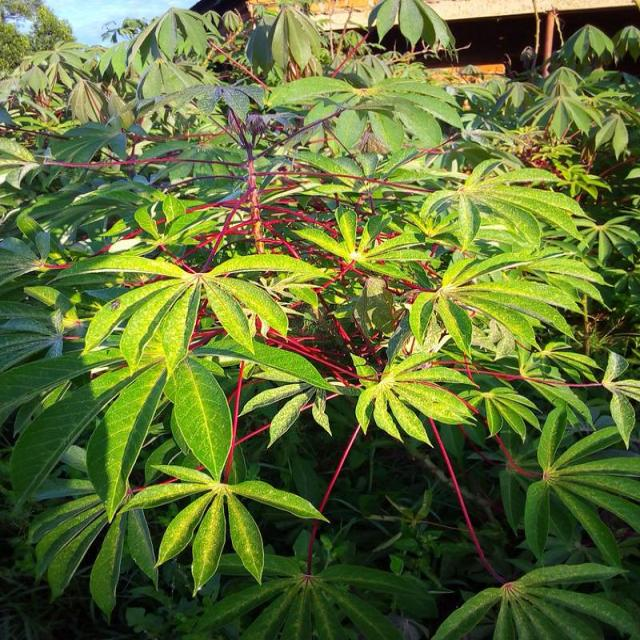cassava leaf: (2, 3, 638, 634)
